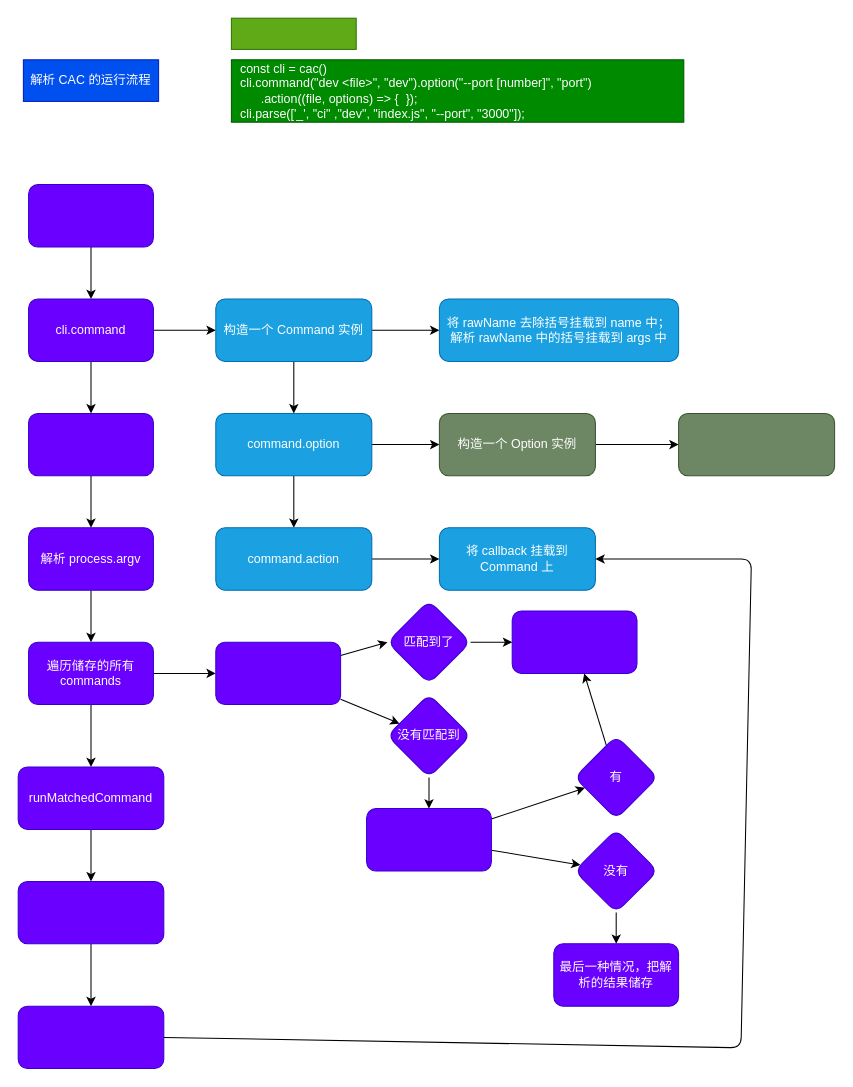
Image size: 853x1087. Some labels were removed from this diagram. Here are the shapes that lost their labels. From the top down, the box of each, then its label:
(230, 17, 356, 49): 示例代码
(28, 184, 153, 247): cac() -> new CAC()
(28, 412, 153, 476): cli.parse
(678, 412, 835, 476): 解析括号，挂载属性
(511, 610, 637, 673): 匹配到就设置 matchedCommand
(215, 641, 341, 705): 匹配 command
(366, 808, 491, 871): 走默认的 commands
(17, 880, 164, 944): 检查必需的参数是否提供
(17, 1005, 164, 1069): 检查完毕，运行 matchCommand.action 将必要的参数注入
